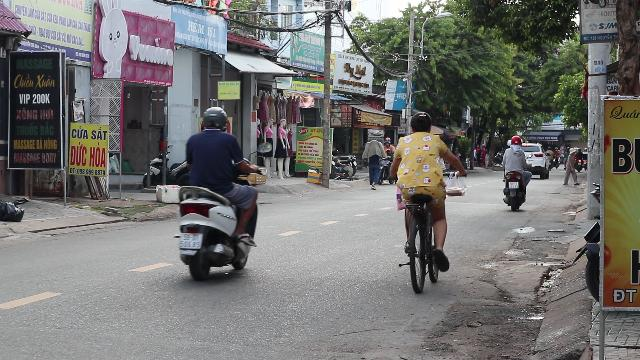helmet: (199, 106, 227, 130)
licenseplate: (179, 233, 201, 248)
motorcyclist: (171, 104, 261, 282)
